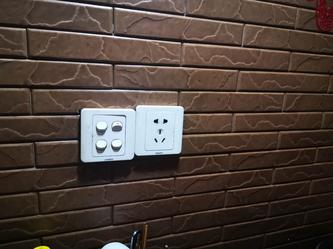switch: (113, 120, 125, 134), (95, 139, 107, 150), (96, 120, 109, 130), (112, 139, 124, 148)
